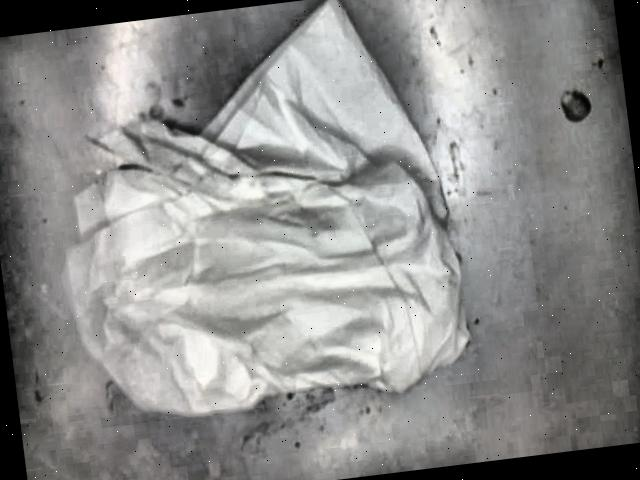Paper: (28, 0, 490, 442)
